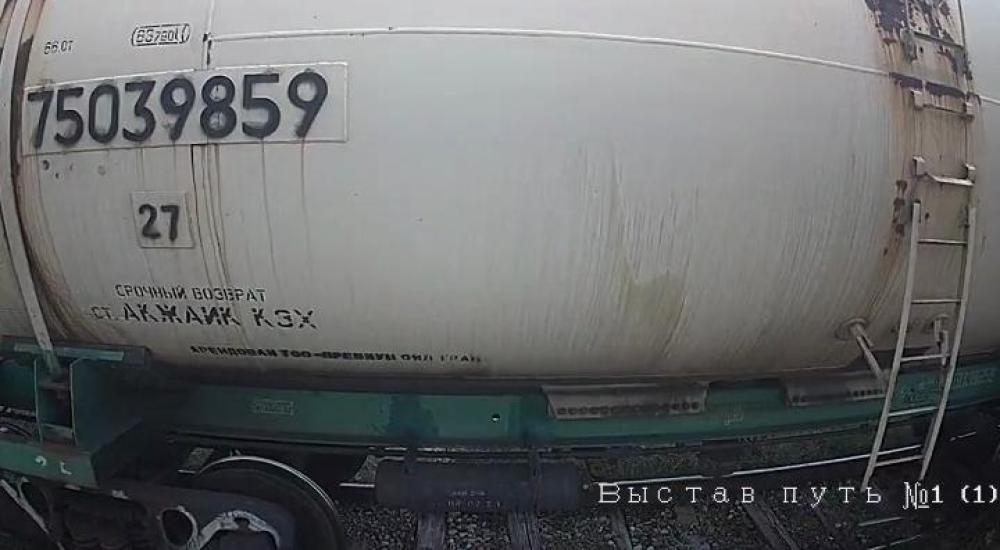Wagon-number: (20, 62, 338, 157)
